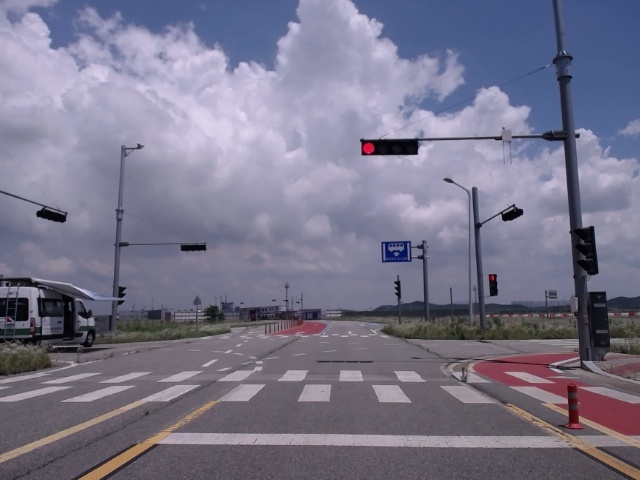red_4: (360, 139, 419, 156)
